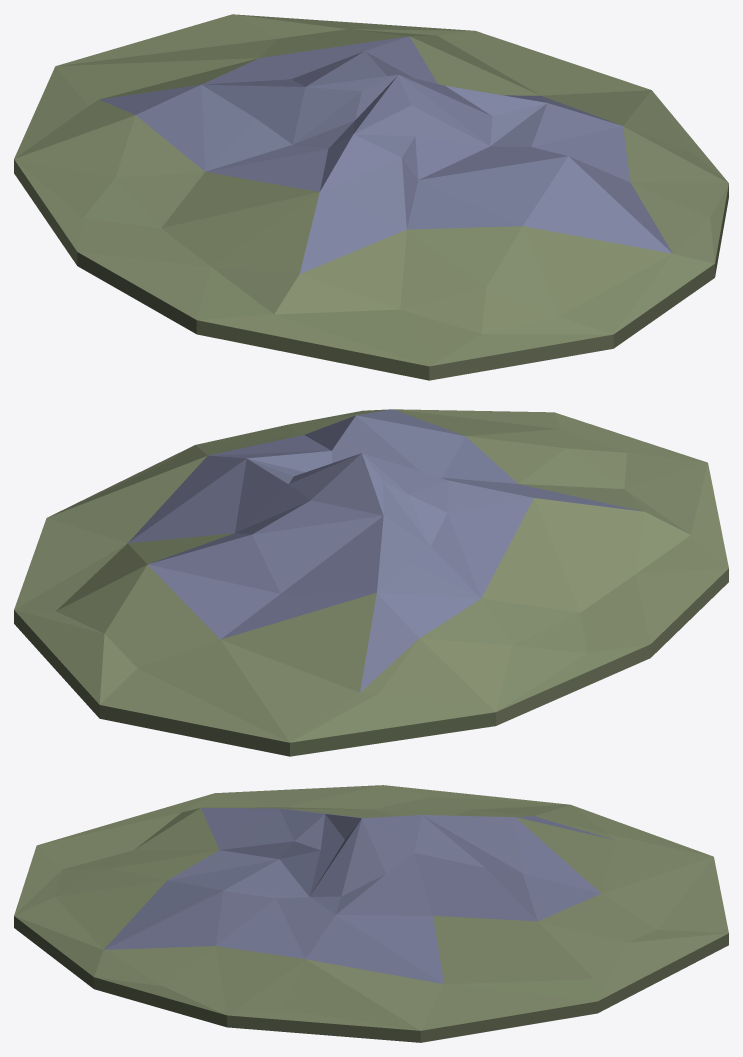
Rendered from massif_valley_guard.glb.
The picture shows the model from 3 angles, top to bottom: view 1: azimuth 30°, elevation 25°; view 2: azimuth 150°, elevation 25°; view 3: azimuth 270°, elevation 25°; orthographic projection. The views are drawn at different scales.
Visible parts, largest first — view 1: massif_valley_guard; view 2: massif_valley_guard; view 3: massif_valley_guard.
Boxes of the visible parts, box(x1,y1,x2,y2) form: massif_valley_guard: box(14, 14, 728, 380); massif_valley_guard: box(14, 409, 728, 756); massif_valley_guard: box(14, 785, 728, 1042).
Size of the model in its own units: 482 by 96.8 by 592.
